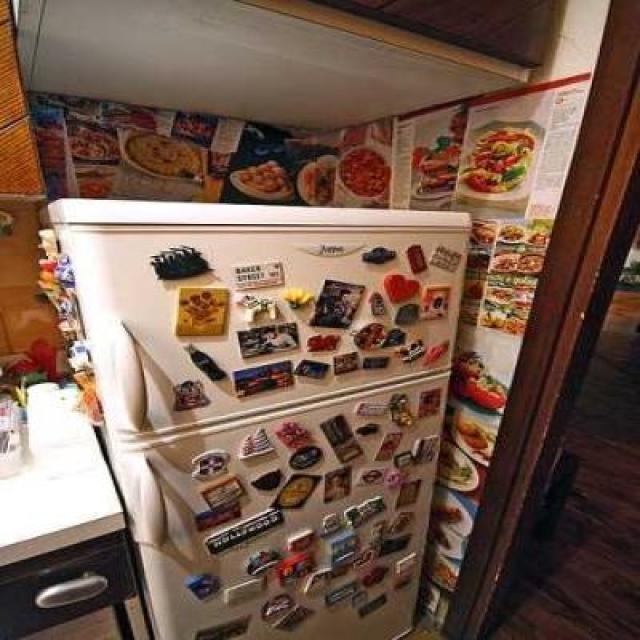refrigerator: (51, 198, 426, 636)
